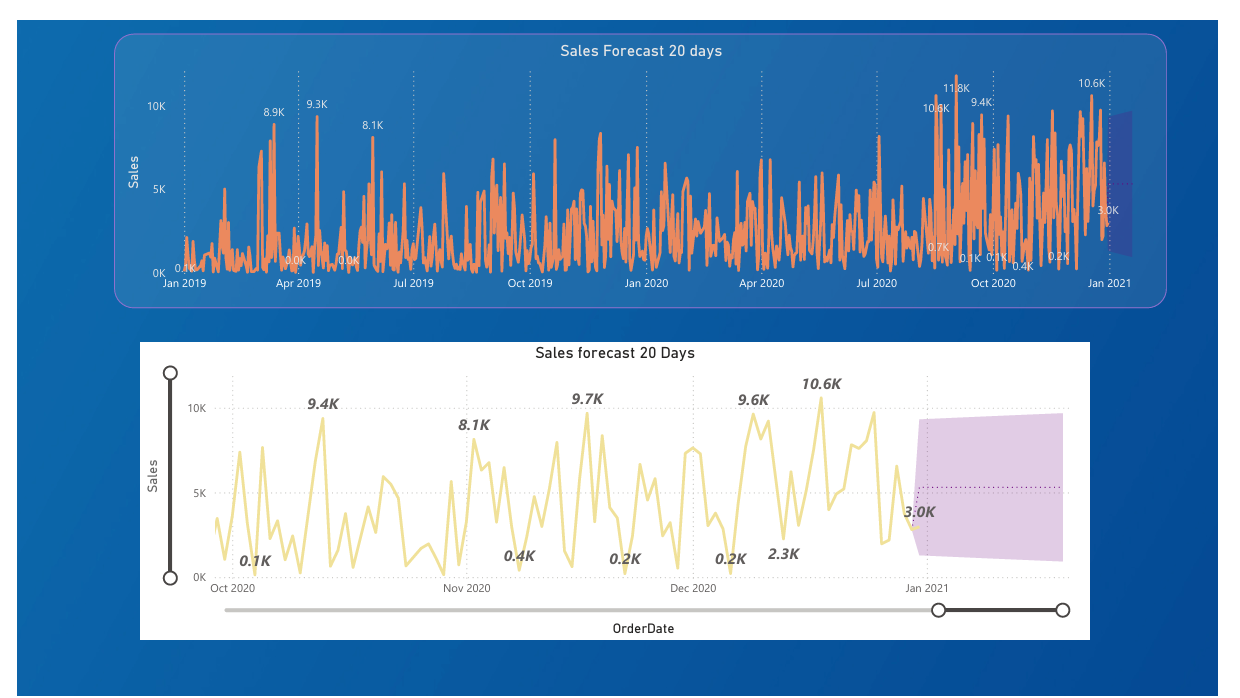

This screenshot's page, from the dashboard's own definition file:
{"tool":"powerbi","page":{"name":"Page 2","canvas":[1280,720],"ordinal":1},"visuals":[{"type":"lineChart","title":"Sales Forecast 20 days","fields":{"Y":["Sum(SuperStore_Sales_Dataset.Sales)"],"Category":["SuperStore_Sales_Dataset.OrderDate"]},"box":[103.2,13.7,1122.4,293.3],"z":0},{"type":"lineChart","title":"Sales forecast 20  Days","fields":{"Y":["Sum(SuperStore_Sales_Dataset.Sales)"],"Category":["SuperStore_Sales_Dataset.OrderDate"]},"box":[130.5,344.3,1013,317],"z":1000}]}

Visuals, with their boxes in screenshot pixels (x1, y1, x2, y2), scaled from the page's 1280x720 canvas onto the 1240x698 screenshot:
"Sales Forecast 20 days" lineChart: [left=100, top=13, right=1187, bottom=298]
"Sales forecast 20  Days" lineChart: [left=126, top=334, right=1108, bottom=641]
